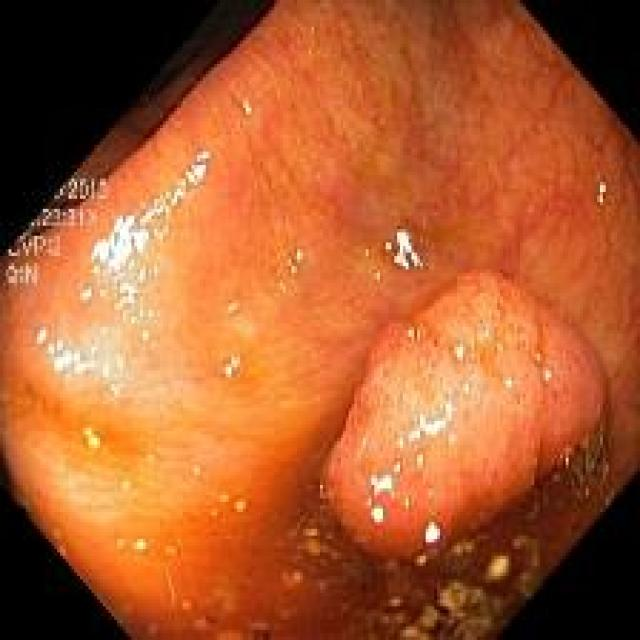Polyps: (322, 271, 605, 556)
